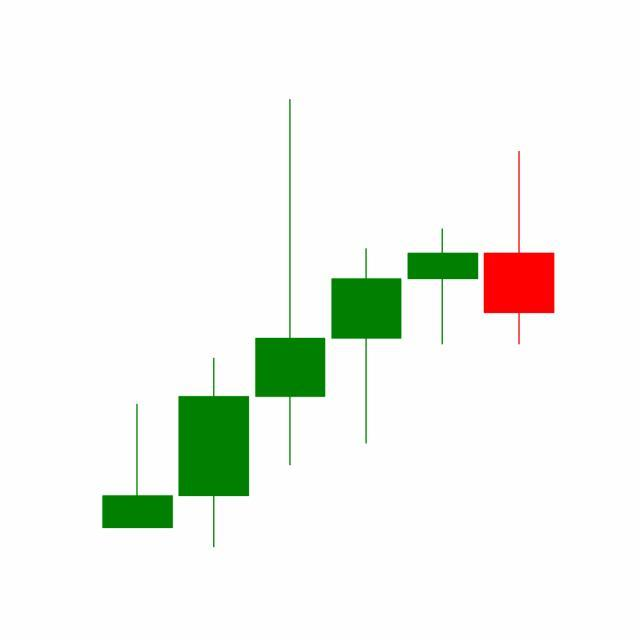Dragonfly Doji: (404, 228, 482, 347)
